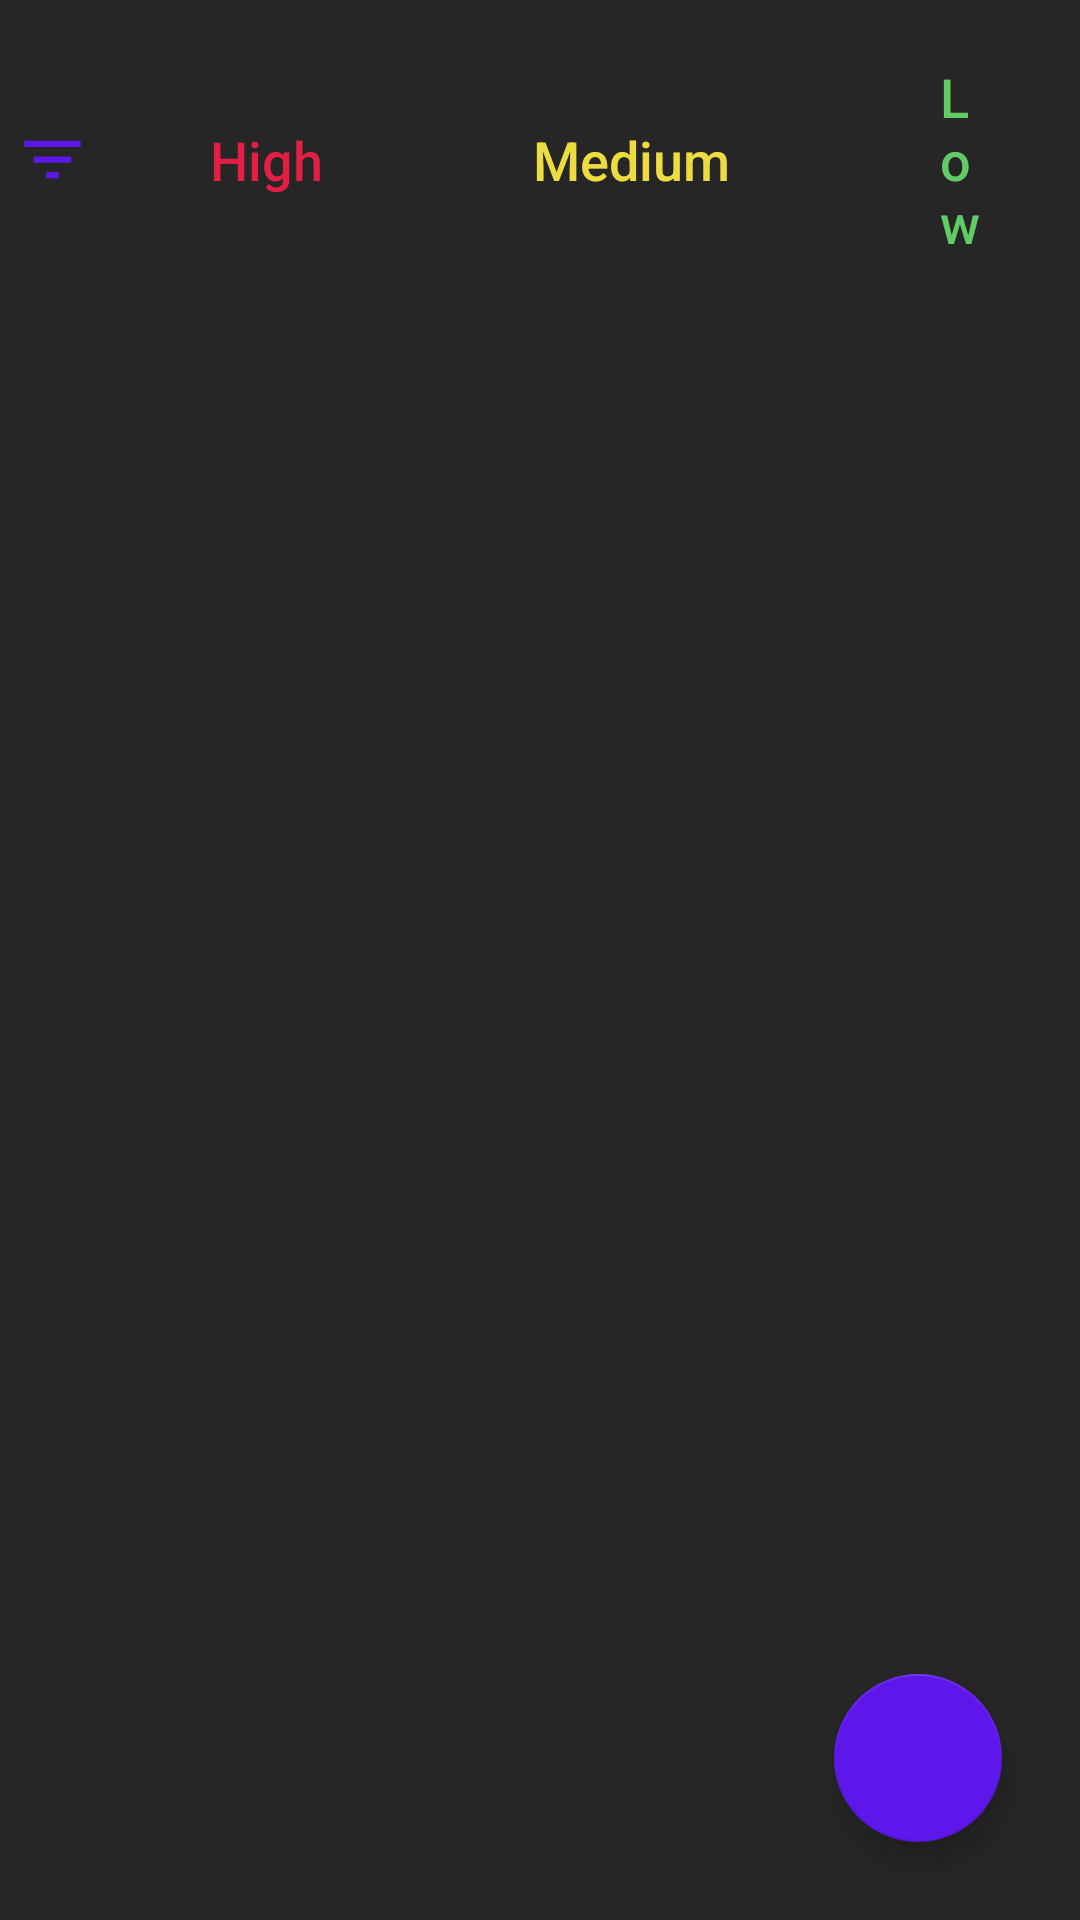

Named icons in this screenshot (1080x1920) and their centers, (x=x, y=y):
filtro: (x=52, y=159)
